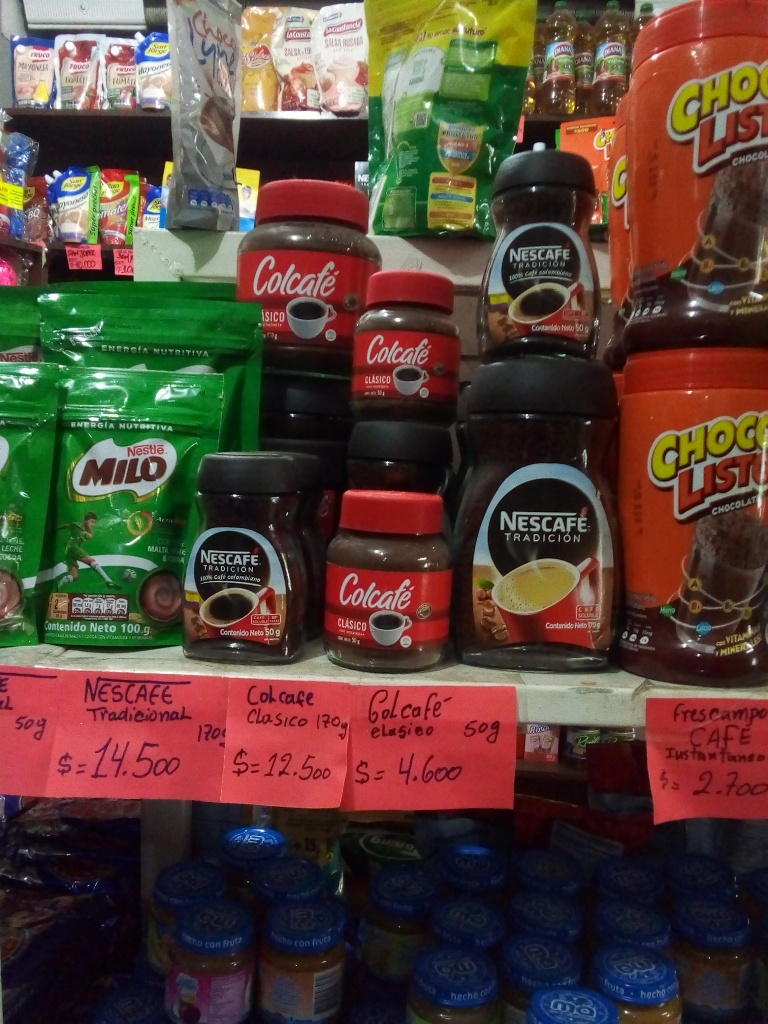COL0170203DYP10000: (39, 363, 205, 648)
